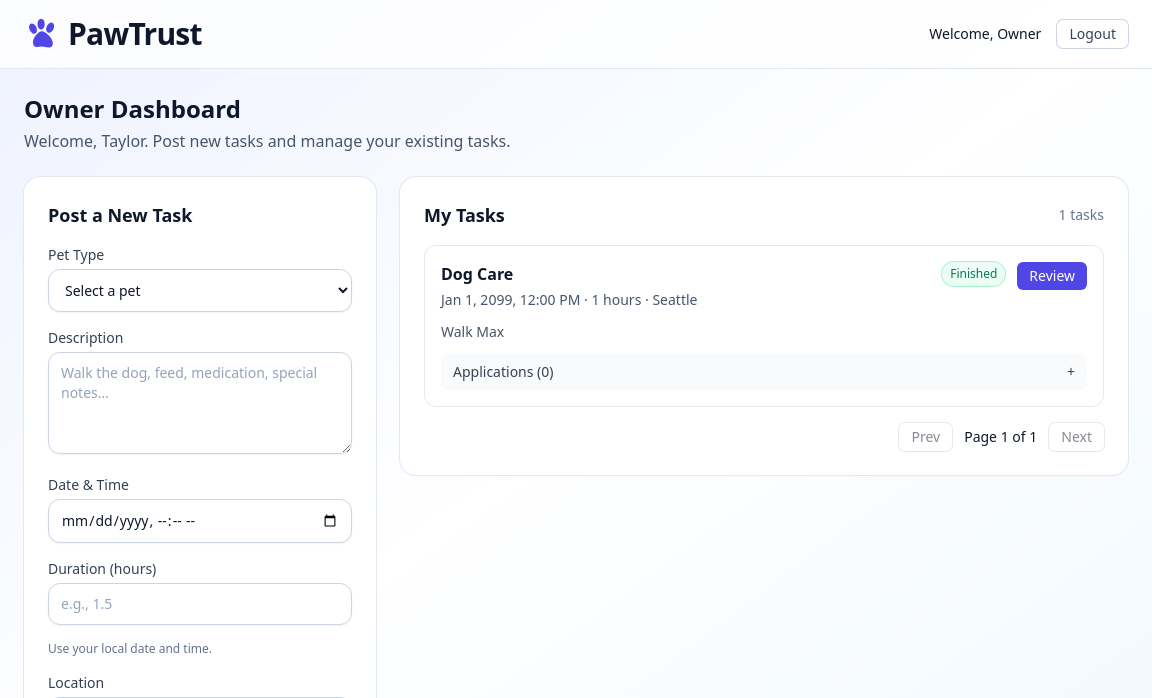
Test: refetches after a 409 so an already-reviewed task stops offering Review
What coordinates should you click on to do the following:
click the button "Review"
I would click on:
 (1052, 276)
Its box is top-left (1017, 262), bottom-right (1087, 290).
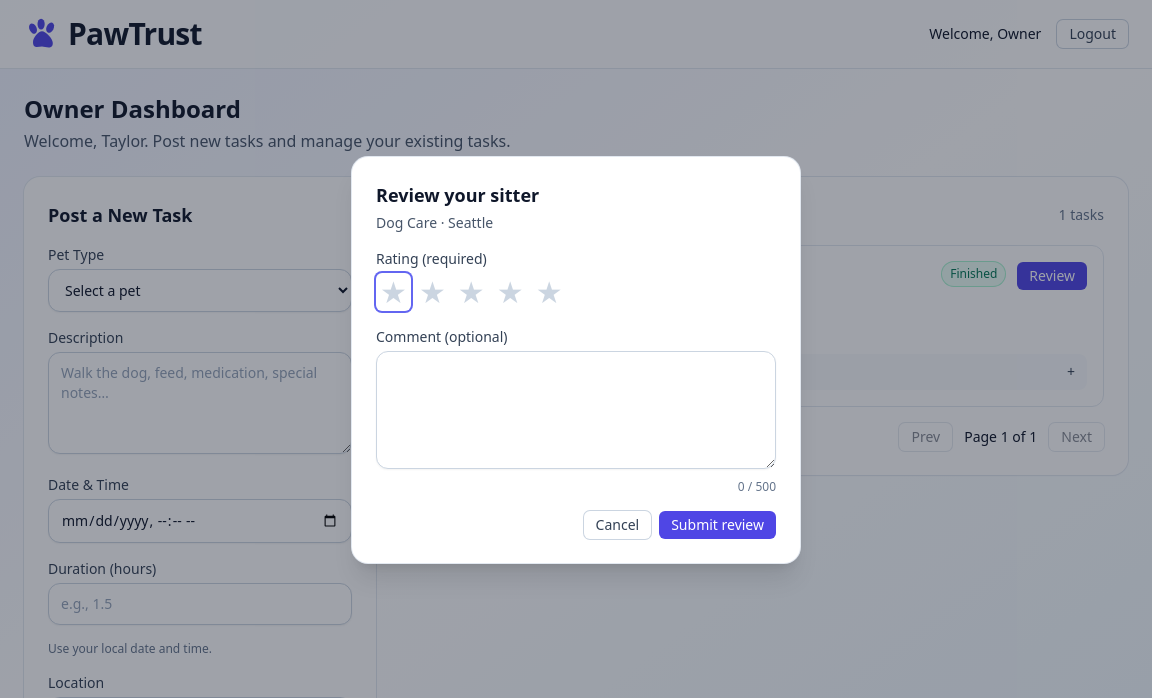
What coordinates should you click on to do the following:
click the radio button named "3 of 5 stars"
I would click on:
 (471, 292)
Its box is top-left (458, 271), bottom-right (485, 312).
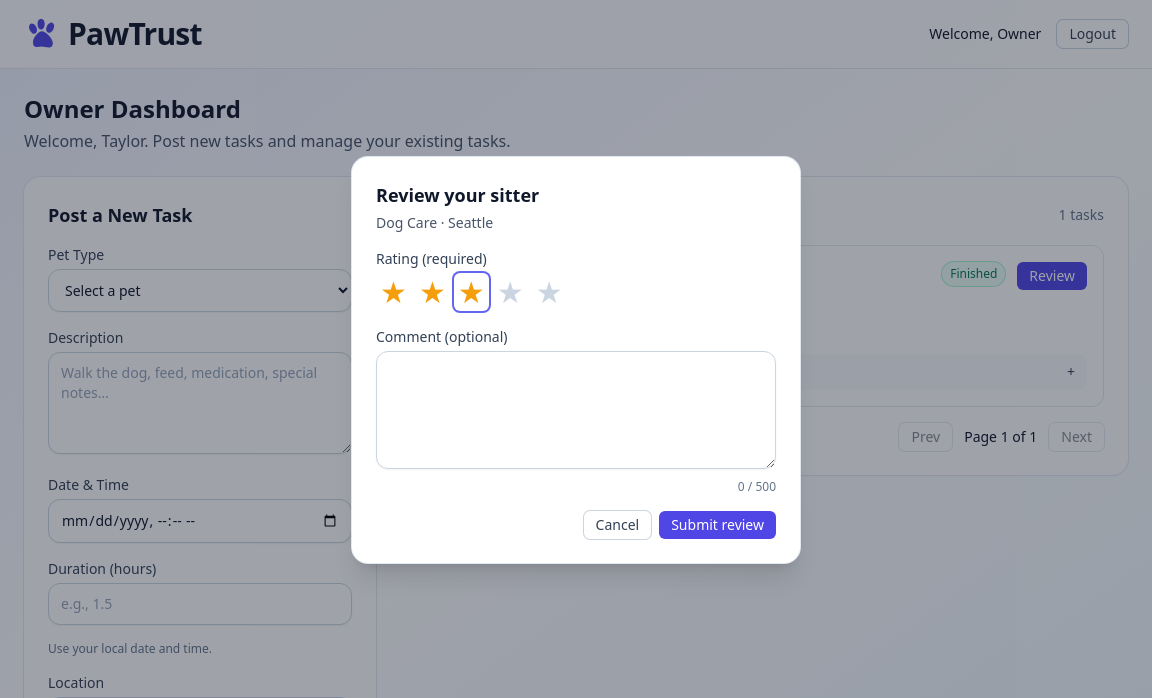
What coordinates should you click on to do the following:
click the button "Submit review"
I would click on:
 (718, 525)
Its box is top-left (659, 511), bottom-right (776, 539).
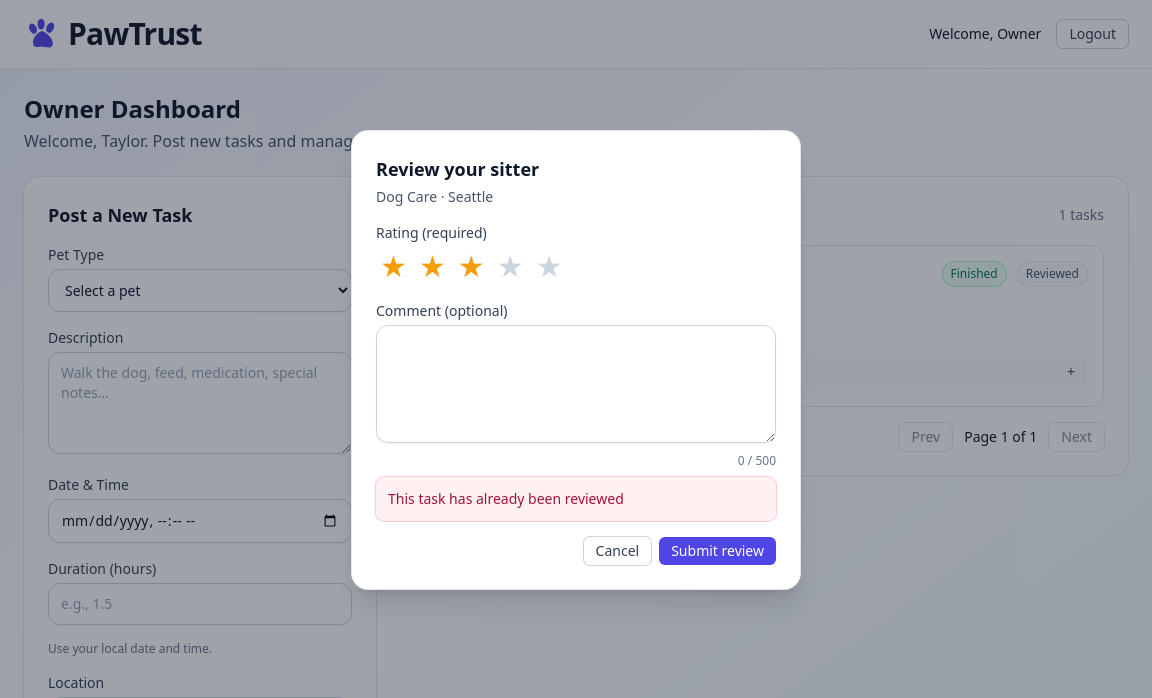
Expected: the message shows "already been reviewed", top-left (388, 489), bottom-right (624, 508)
Expected: the text "Reviewed" is shown, top-left (1018, 262), bottom-right (1087, 286)
